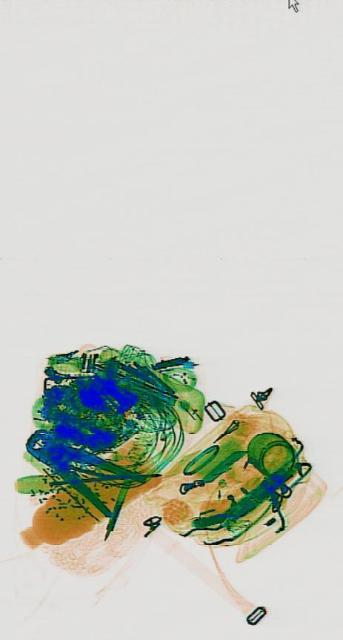Pliers: (21, 398, 144, 534)
